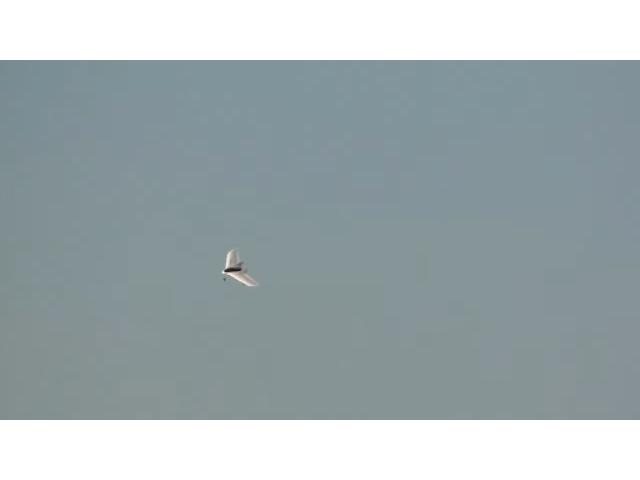Anti-Drone: (224, 248, 258, 287)
